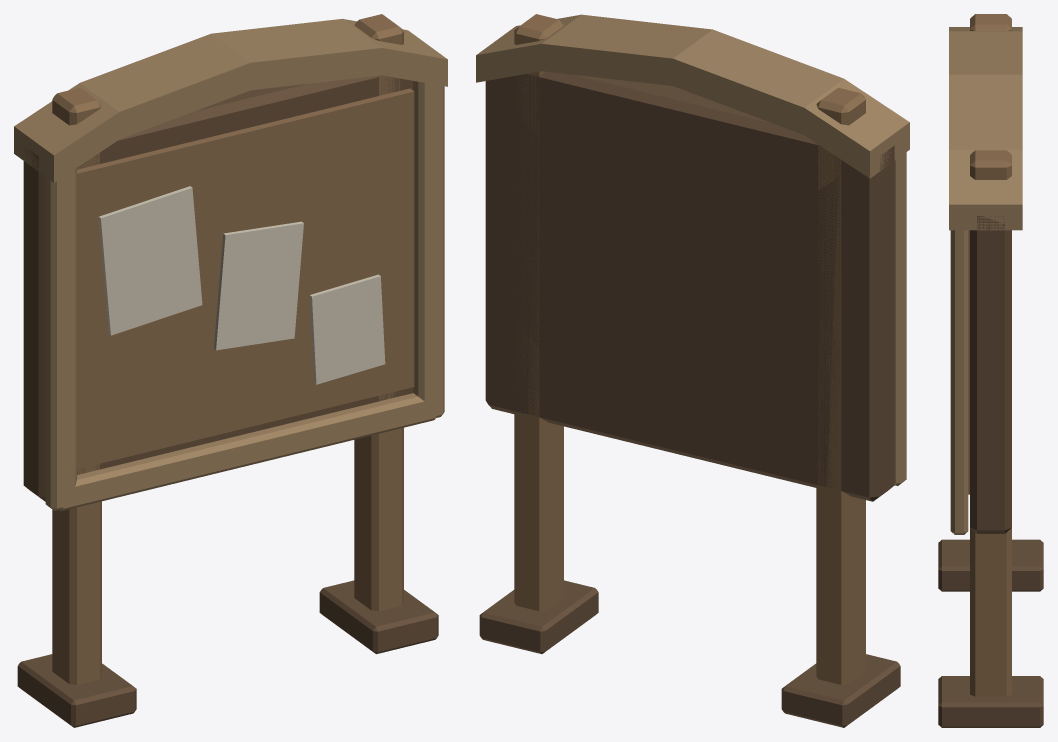
File: market_board.glb
3 renders of one model, left to right at view 1: azimuth 30°, elevation 25°; view 2: azimuth 150°, elevation 25°; view 3: azimuth 270°, elevation 25°, orthographic. The views are drawn at different scales.
Visible parts, largest first — view 1: market_board; view 2: market_board; view 3: market_board.
Part boxes in pixels (bbox=[...]): market_board: bbox=[14, 14, 447, 727]; market_board: bbox=[476, 14, 909, 727]; market_board: bbox=[938, 14, 1043, 727].
Size of the model in its own units: 1.2 by 1.8 by 0.3.
